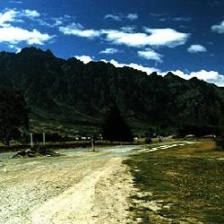neutral: (1, 27, 220, 221)
